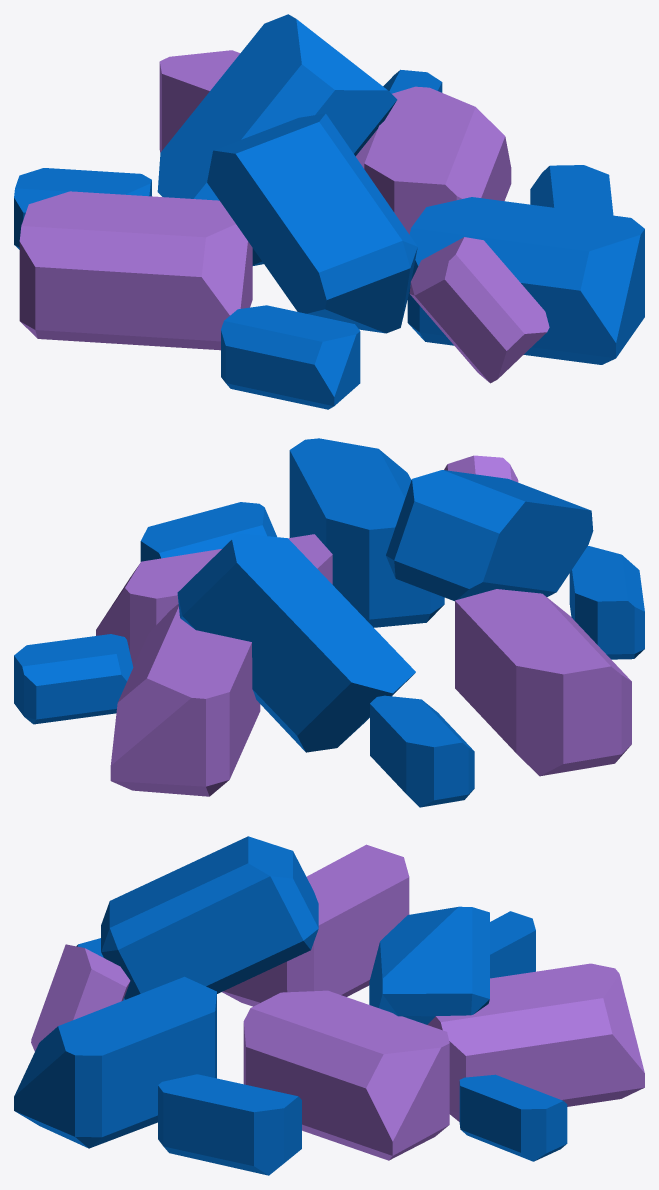
Rendered from Potato - Chopped.fbx.
3 views of the same model, one above another, from view 1: azimuth 30°, elevation 25°; view 2: azimuth 150°, elevation 25°; view 3: azimuth 270°, elevation 25° (orthographic). The views are drawn at different scales.
Visible parts, largest first — view 1: Potato___Chopped; view 2: Potato___Chopped; view 3: Potato___Chopped.
Part boxes in pixels (left/top/right/bottom): Potato___Chopped: left=14, top=14, right=644, bottom=409; Potato___Chopped: left=14, top=438, right=644, bottom=807; Potato___Chopped: left=14, top=836, right=644, bottom=1175.
Size of the model in its own units: 32.78 by 12.07 by 36.4.
